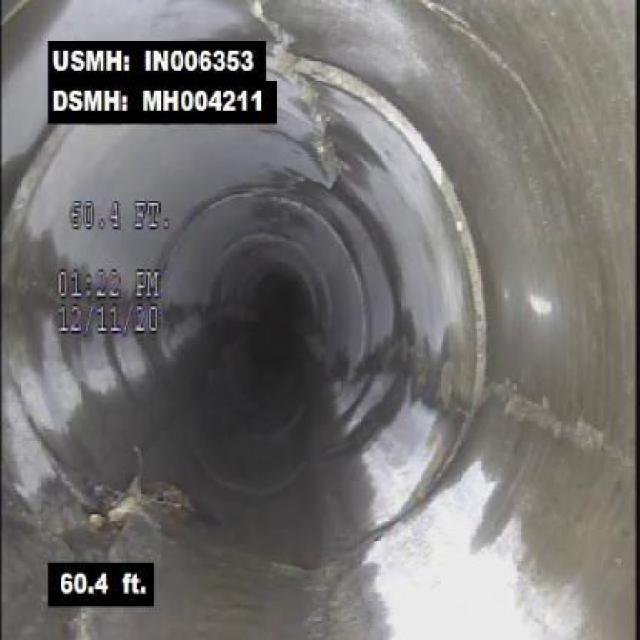Buckling: (294, 89, 348, 194), (248, 0, 306, 86)
Crack: (431, 6, 531, 100), (491, 377, 606, 448)
Debris: (70, 471, 196, 542)
Joint offset: (377, 100, 478, 266), (0, 125, 71, 248)
